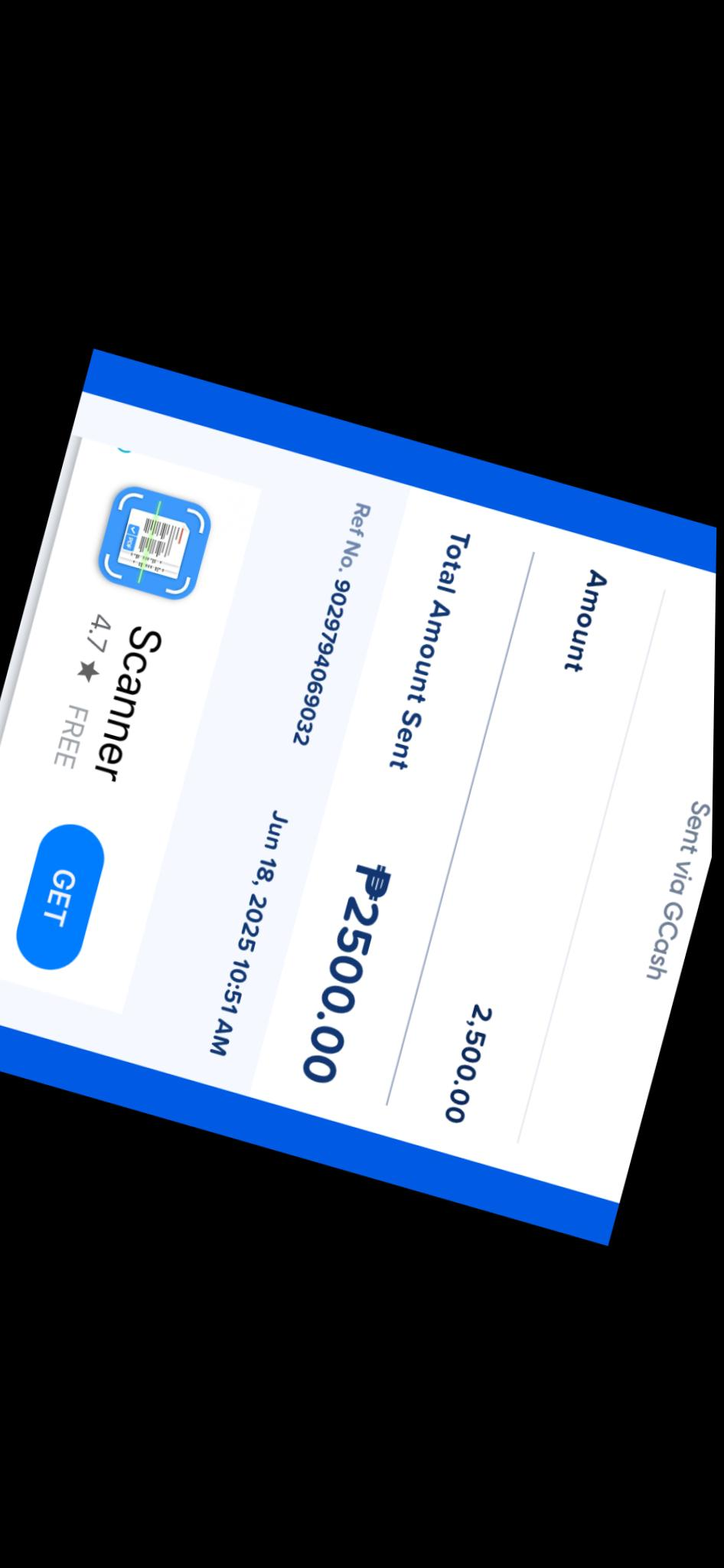Receipt: (0, 349, 717, 1246)
